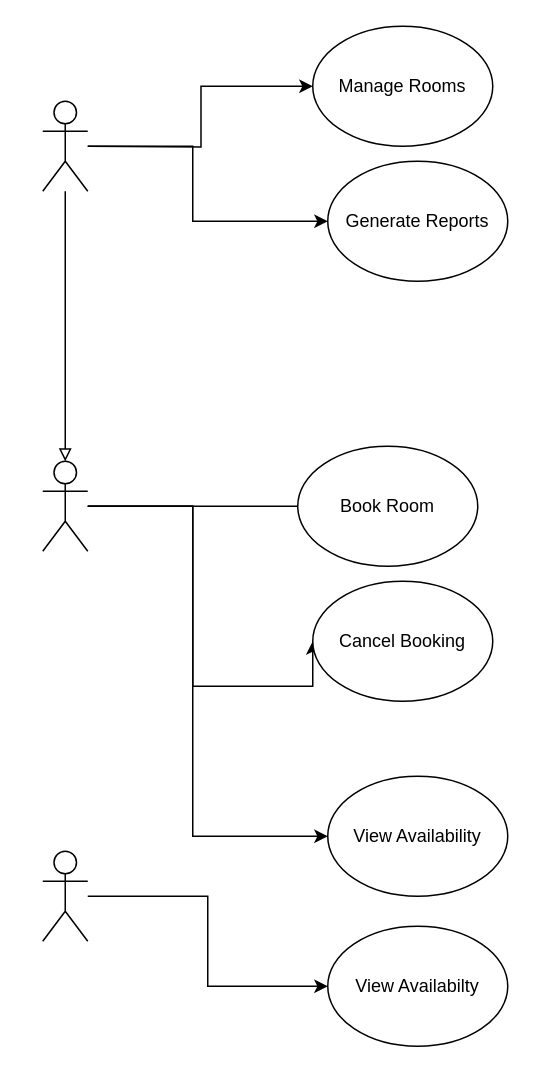
The diagram is 534 pixels wide and 1073 high, and some of its shapes have lost their labels. Each missing label, with the box of its shape:
Admin: (41, 100, 88, 191)
Employee: (41, 460, 88, 551)
Visitor: (41, 850, 88, 941)
